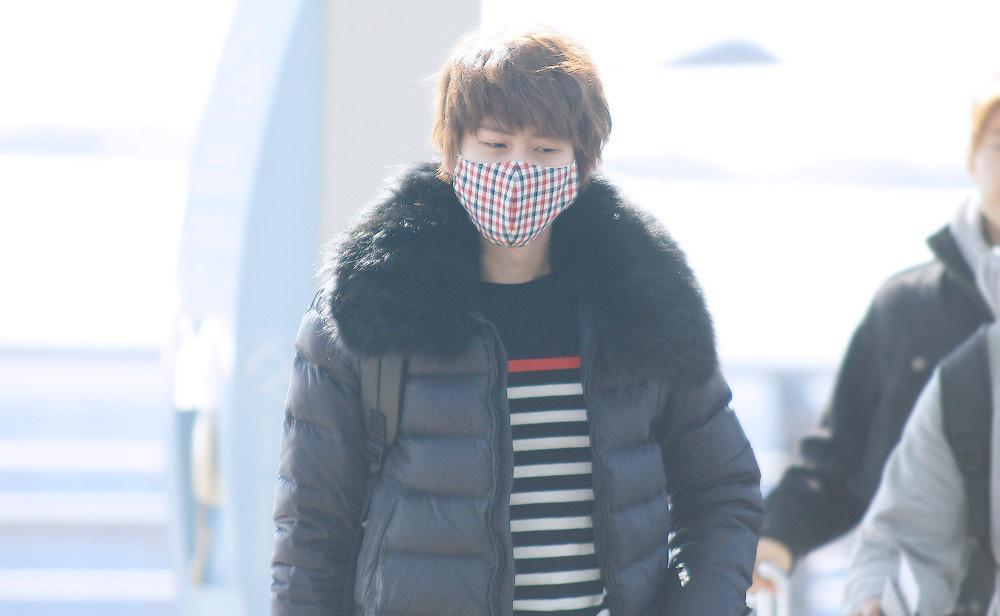OK: (456, 118, 586, 248)
